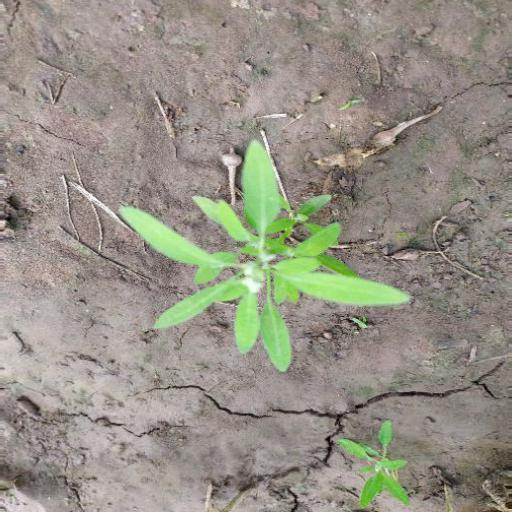weed: (109, 133, 415, 374), (328, 413, 416, 509)
